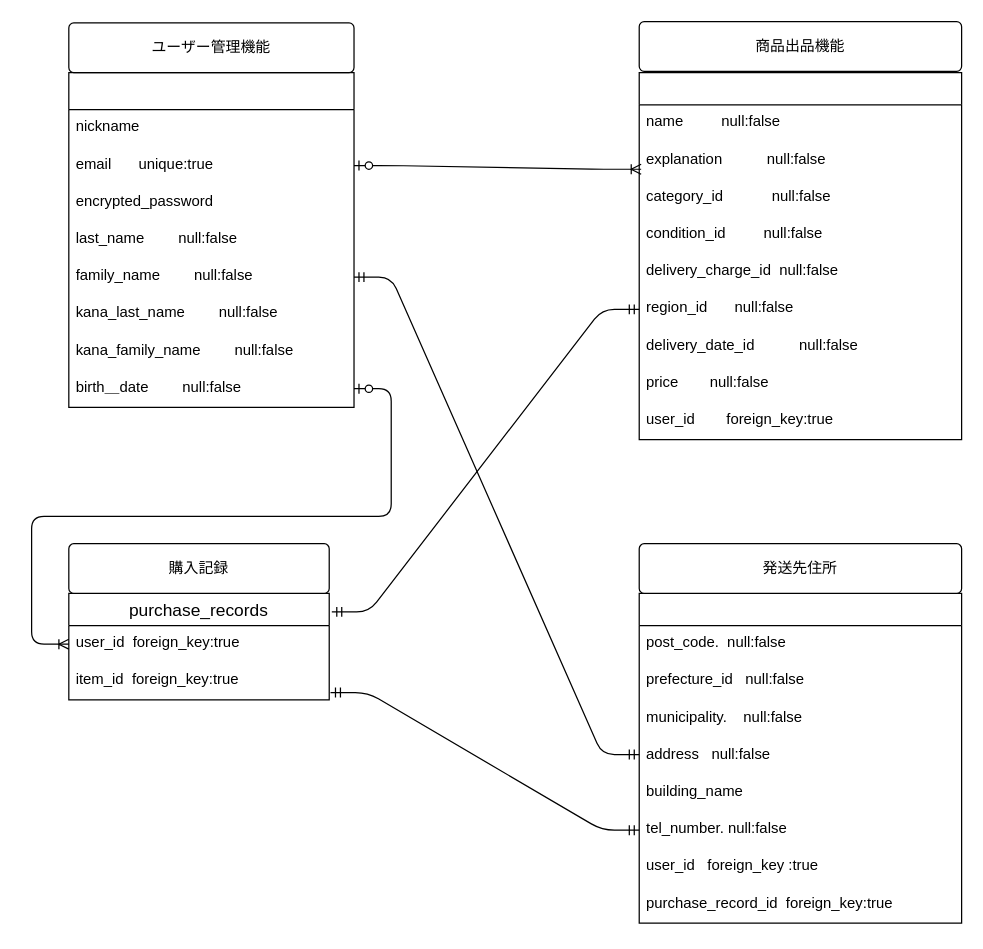
Image size: 983x949. Some labels were removed from this diagram. The shapes that lost their labels are listed below. From the top down, each one's box as (x1, y1, x2, y2) in pixels, then its label:
(68, 71, 354, 407): users
(638, 71, 962, 440): items
(638, 592, 962, 923): addresses
